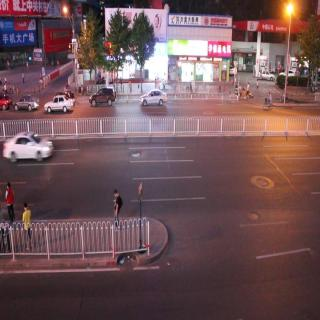Car: (3, 132, 56, 166), (88, 84, 116, 111), (46, 94, 74, 116), (140, 88, 168, 108), (15, 94, 39, 115), (257, 68, 276, 84)
